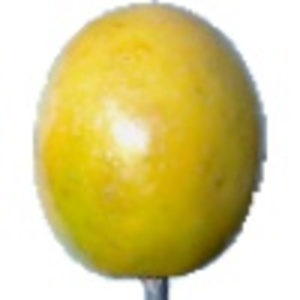maracujá: (31, 1, 269, 300)
